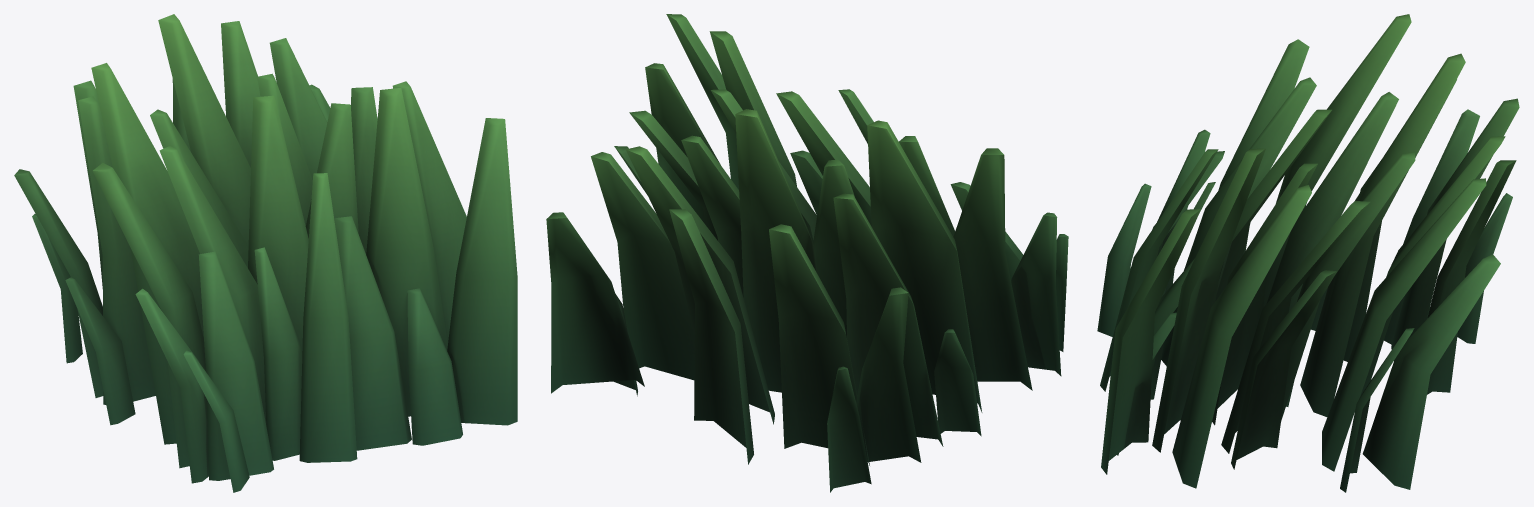
The model's file is forest_grass_tile.fbx.
The picture shows the model from 3 angles, left to right: view 1: azimuth 30°, elevation 25°; view 2: azimuth 150°, elevation 25°; view 3: azimuth 270°, elevation 25°; orthographic projection. The views are drawn at different scales.
Parts seen in each view (by area): view 1: forest_grass_tile; view 2: forest_grass_tile; view 3: forest_grass_tile.
Boxes of the visible parts, x1,y1,x2,y2 form: forest_grass_tile: (14, 14, 517, 492); forest_grass_tile: (546, 14, 1068, 492); forest_grass_tile: (1097, 14, 1519, 492).
Bounding box in the file's own units: 2.02 × 1.76 × 1.99.
